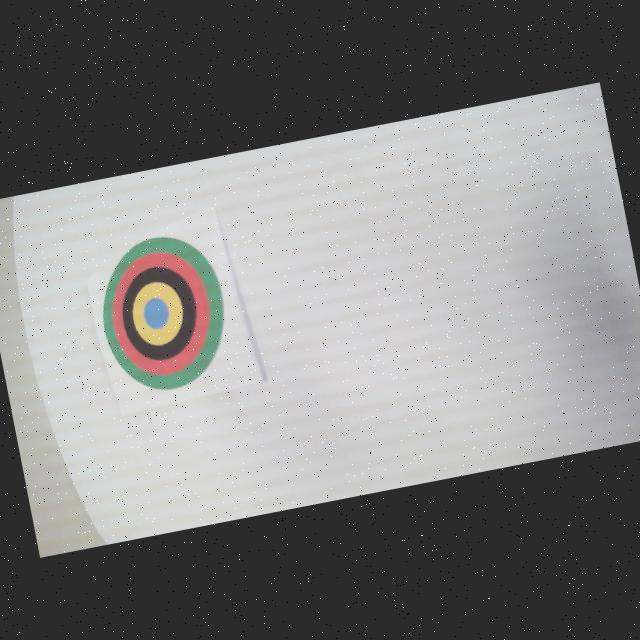COGNITIVE: (89, 227, 239, 400)
